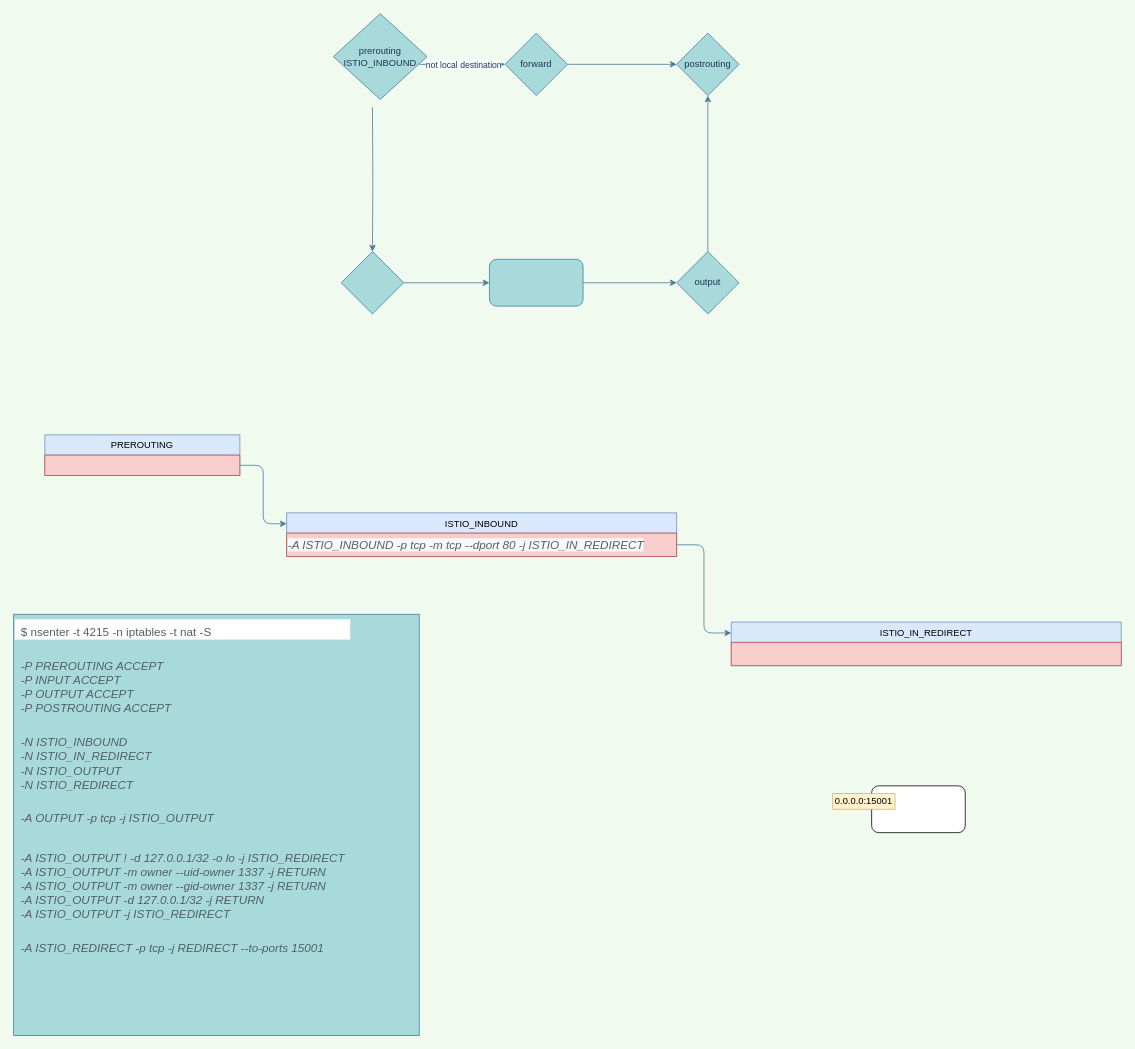
The diagram is 1135 pixels wide and 1049 high, and some of its shapes have lost their labels. The centre of each missing label's shape, as x and y in pixels:
"-A ISTIO_IN_REDIRECT -p tcp -j REDIRECT --to-ports 15001" goes at [925,654].
"-A PREROUTING -p tcp -j ISTIO_INBOUND" goes at [142,464].
"envoy" goes at [918,809].
"input" goes at [372,282].
"local process" goes at [536,282].
